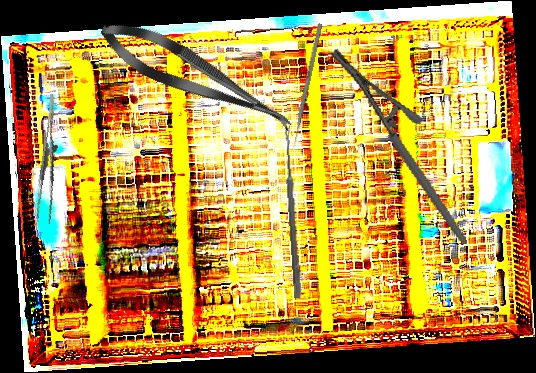Micro Scissor: (92, 9, 301, 145)
Needle Holder: (329, 28, 468, 265)
Pusher: (290, 22, 323, 153)
Surgical Spoon: (282, 125, 303, 299)
Tissue Forceps: (23, 93, 77, 225)
